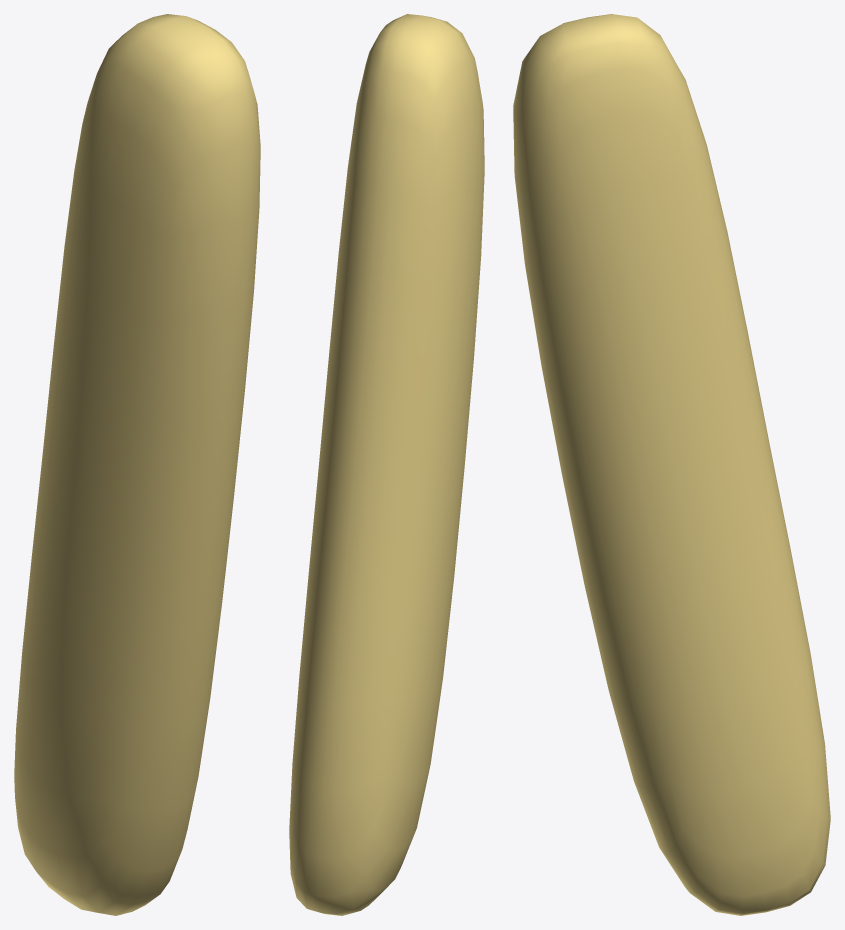
3 renders of one model, left to right at view 1: azimuth 30°, elevation 25°; view 2: azimuth 150°, elevation 25°; view 3: azimuth 270°, elevation 25°, orthographic. The views are drawn at different scales.
Parts seen in each view (by area): view 1: ZA_07c670e261918c6b; view 2: ZA_07c670e261918c6b; view 3: ZA_07c670e261918c6b.
Boxes of the visible parts, x1=… form: ZA_07c670e261918c6b: x1=14, y1=14, x2=260, y2=915; ZA_07c670e261918c6b: x1=289, y1=14, x2=484, y2=915; ZA_07c670e261918c6b: x1=513, y1=14, x2=830, y2=915.
Bounding box in the file's own units: 0.00133 × 0.00826 × 0.00269.
